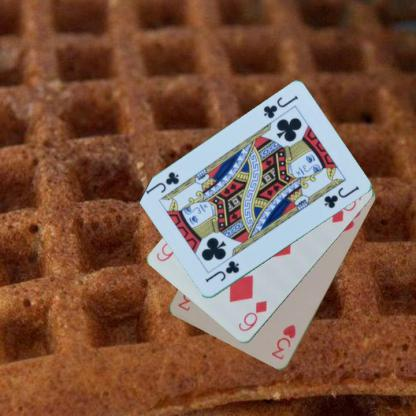3h: (268, 322, 298, 362)
6d: (235, 298, 268, 334)
Jc: (261, 94, 299, 120), (203, 258, 240, 284)
